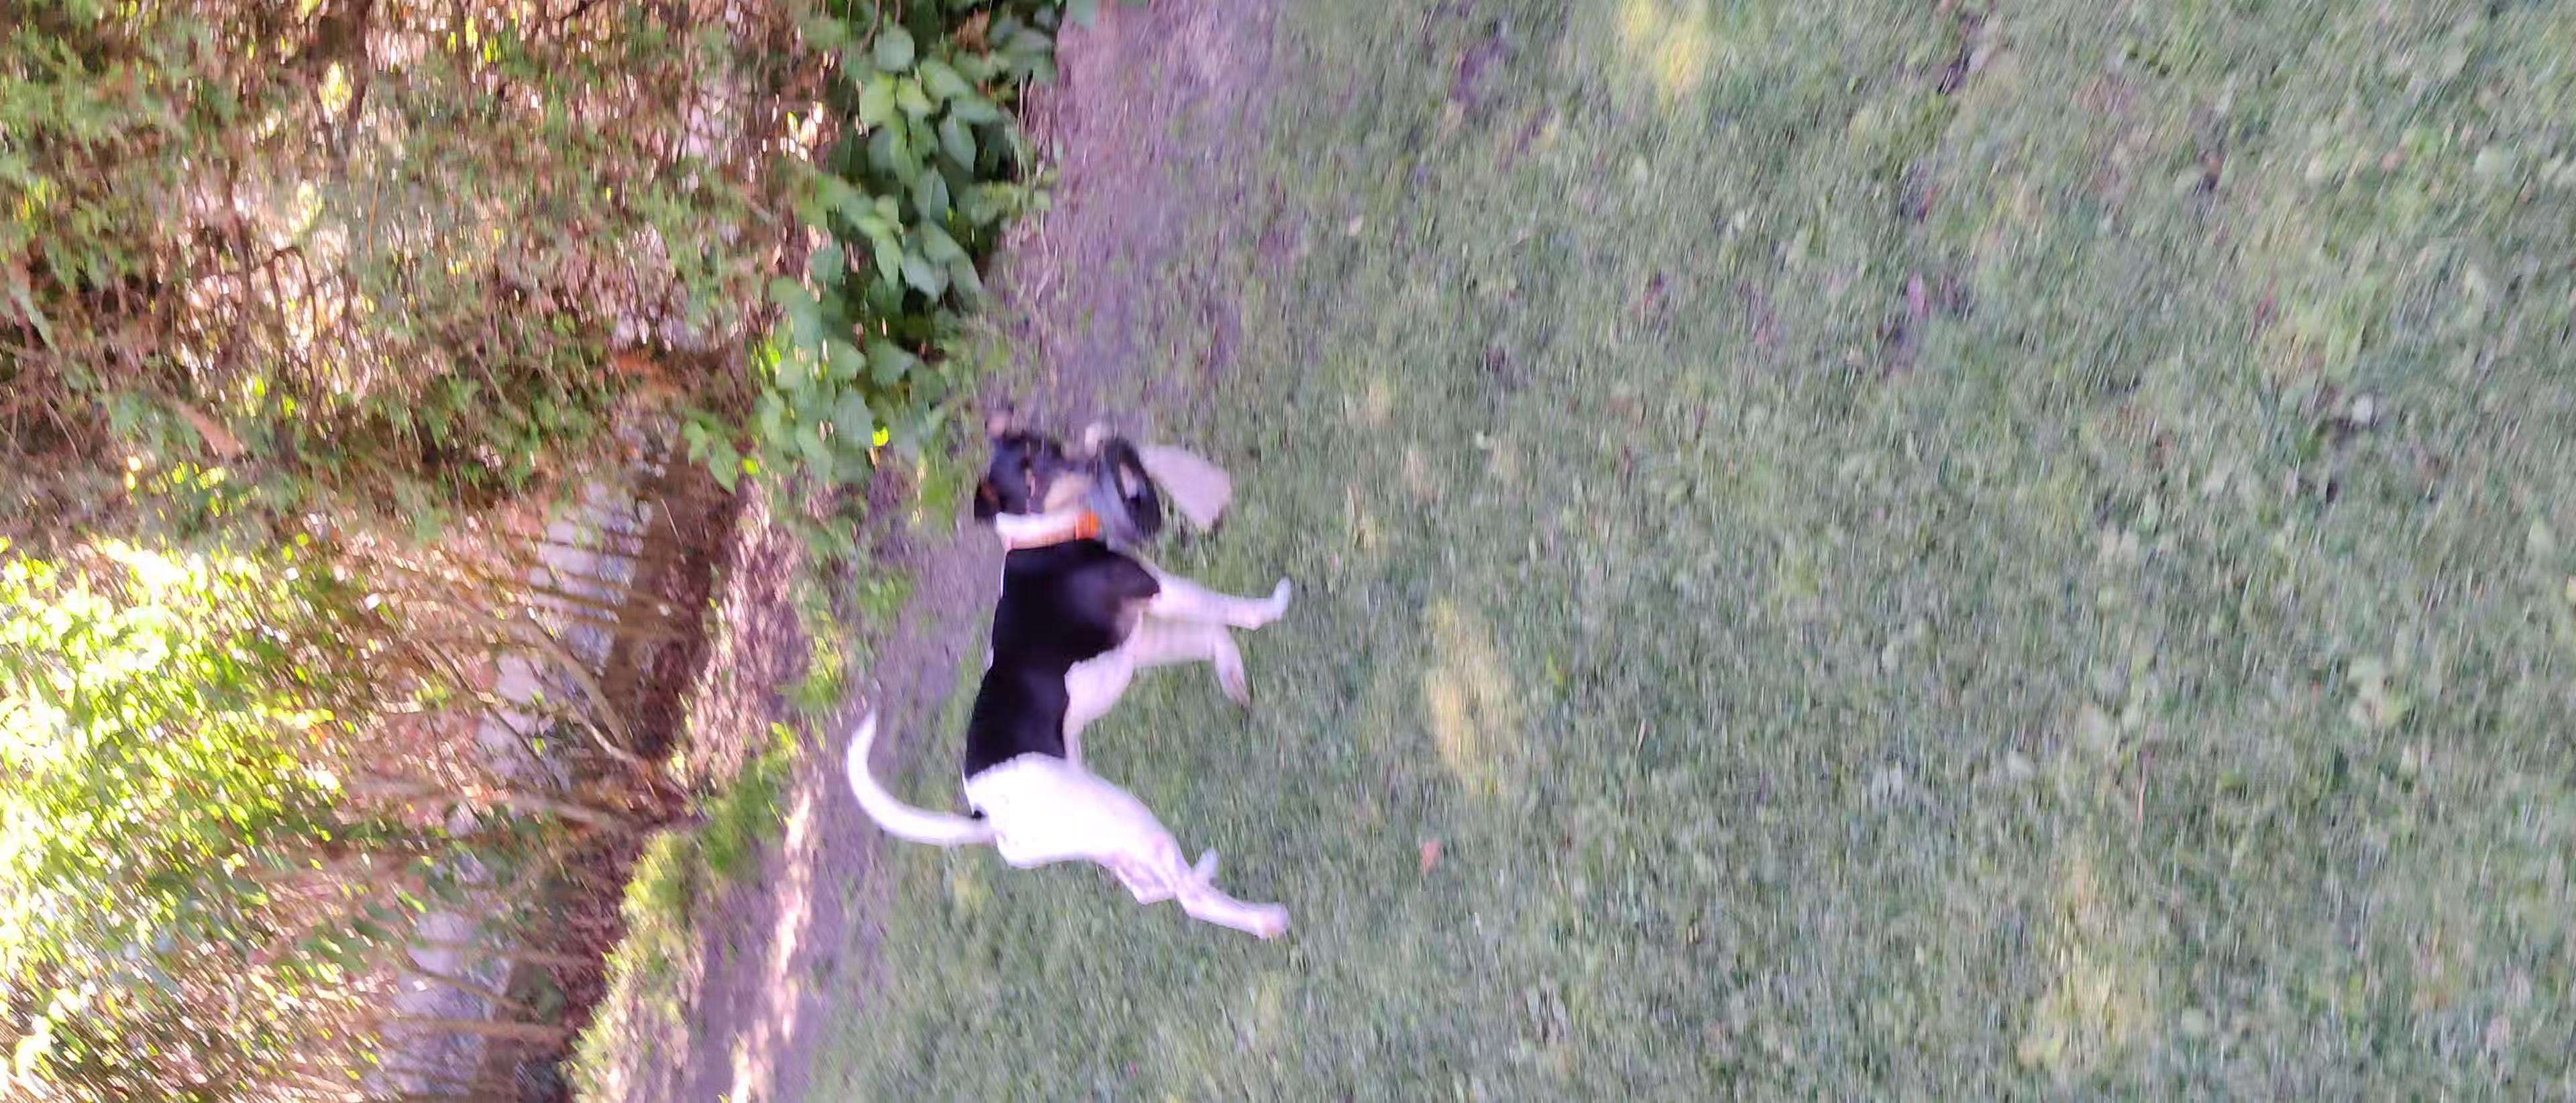Dog: (839, 406, 1298, 957)
